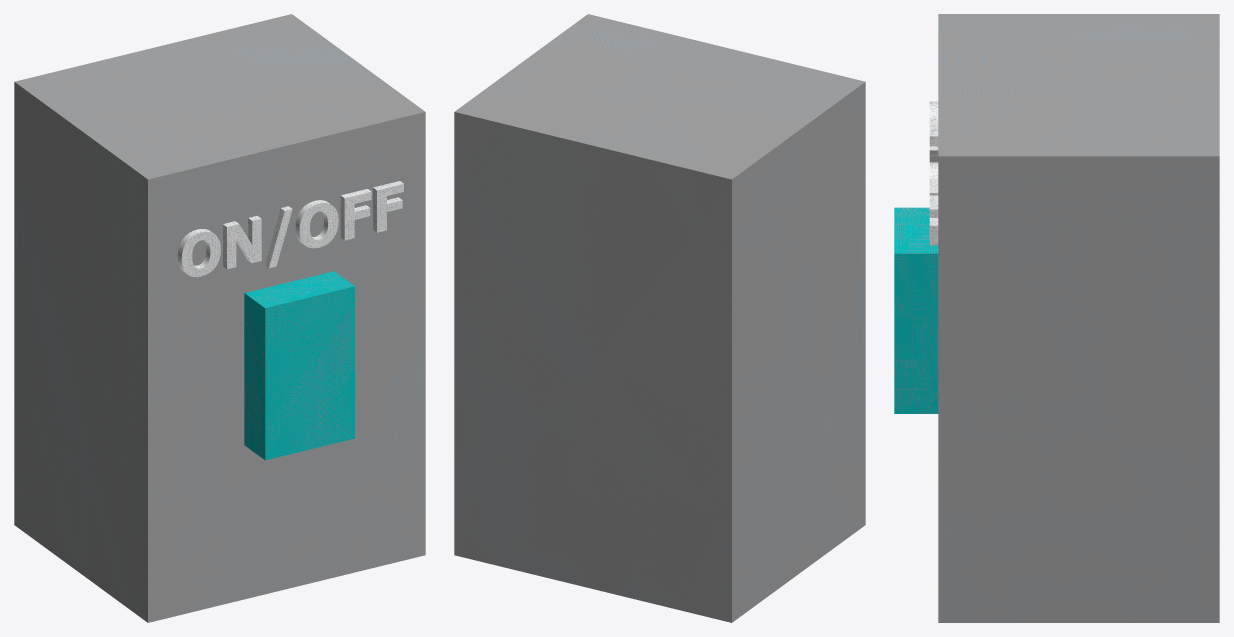
File: LightBox.dae
3 views of the same model, side by side, from view 1: azimuth 30°, elevation 25°; view 2: azimuth 150°, elevation 25°; view 3: azimuth 270°, elevation 25° (orthographic). The views are drawn at different scales.
Visible parts, largest first — view 1: SketchUp (×2), ON_OFF (×6); view 2: SketchUp; view 3: SketchUp (×2), ON_OFF.
Part boxes in pixels (bbox=[...]): SketchUp (×2): bbox=[14, 14, 425, 622]; ON_OFF (×6): bbox=[177, 181, 403, 277]; SketchUp: bbox=[454, 14, 865, 622]; SketchUp (×2): bbox=[894, 14, 1219, 622]; ON_OFF: bbox=[929, 195, 938, 245].
Bounding box in the file's own units: 36.55 × 35.23 × 55.8.
